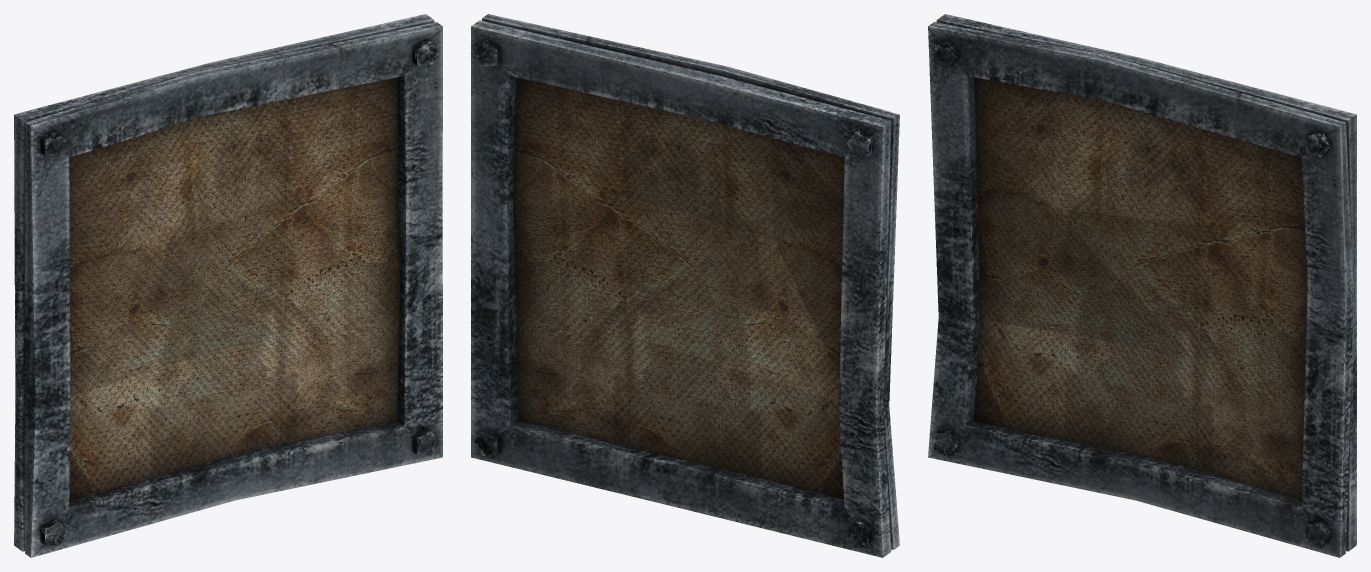
File: stencil03.dae
The picture shows the model from 3 angles, left to right: view 1: azimuth 30°, elevation 25°; view 2: azimuth 150°, elevation 25°; view 3: azimuth 330°, elevation 25°; orthographic projection.
Visible parts, largest first — view 1: stencil_paper03, stencil_frame03; view 2: stencil_paper03, stencil_frame03; view 3: stencil_paper03, stencil_frame03.
Part boxes in pixels (box(x1,y1,x2,y2)): stencil_paper03: box(69, 77, 399, 500); stencil_frame03: box(14, 14, 442, 557); stencil_paper03: box(513, 77, 844, 499); stencil_frame03: box(471, 14, 899, 557); stencil_paper03: box(973, 77, 1307, 500); stencil_frame03: box(928, 14, 1356, 557).
Size of the model in its own units: 0.2191 by 0.221 by 0.023.
